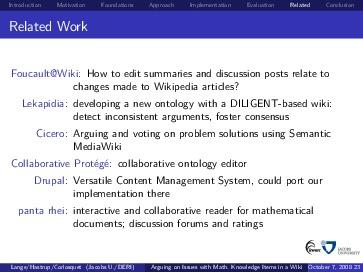paragraph: (5, 58, 357, 233)
title: (3, 16, 93, 36)
